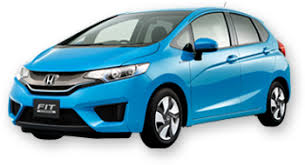car: (3, 4, 295, 153)
